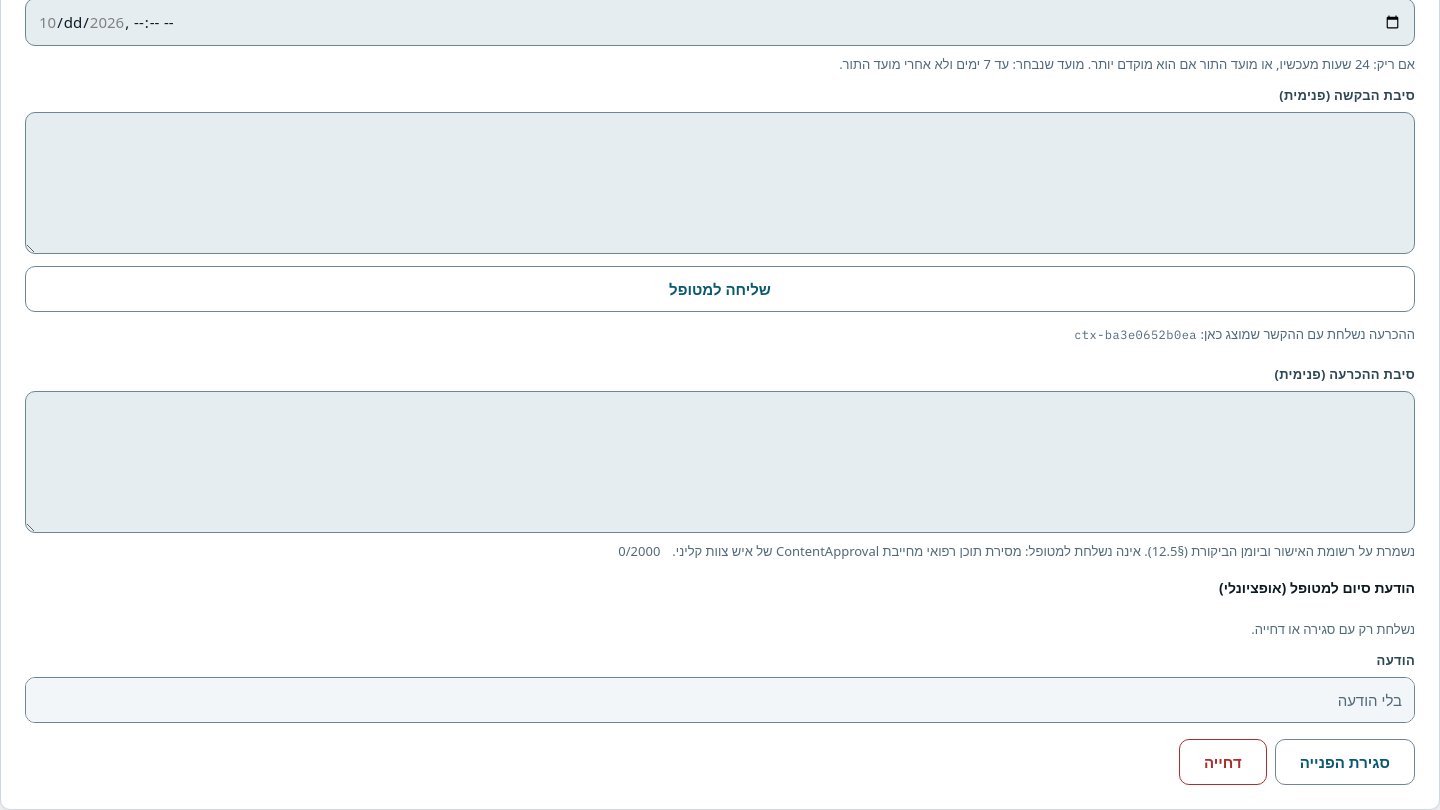
Test: ReviewCase › refuses to send without a reason
This screenshot has width=1440, height=810.
(page scrolled)
Click the button "דחייה".
click(1223, 762)  # box [1179, 739, 1267, 785]
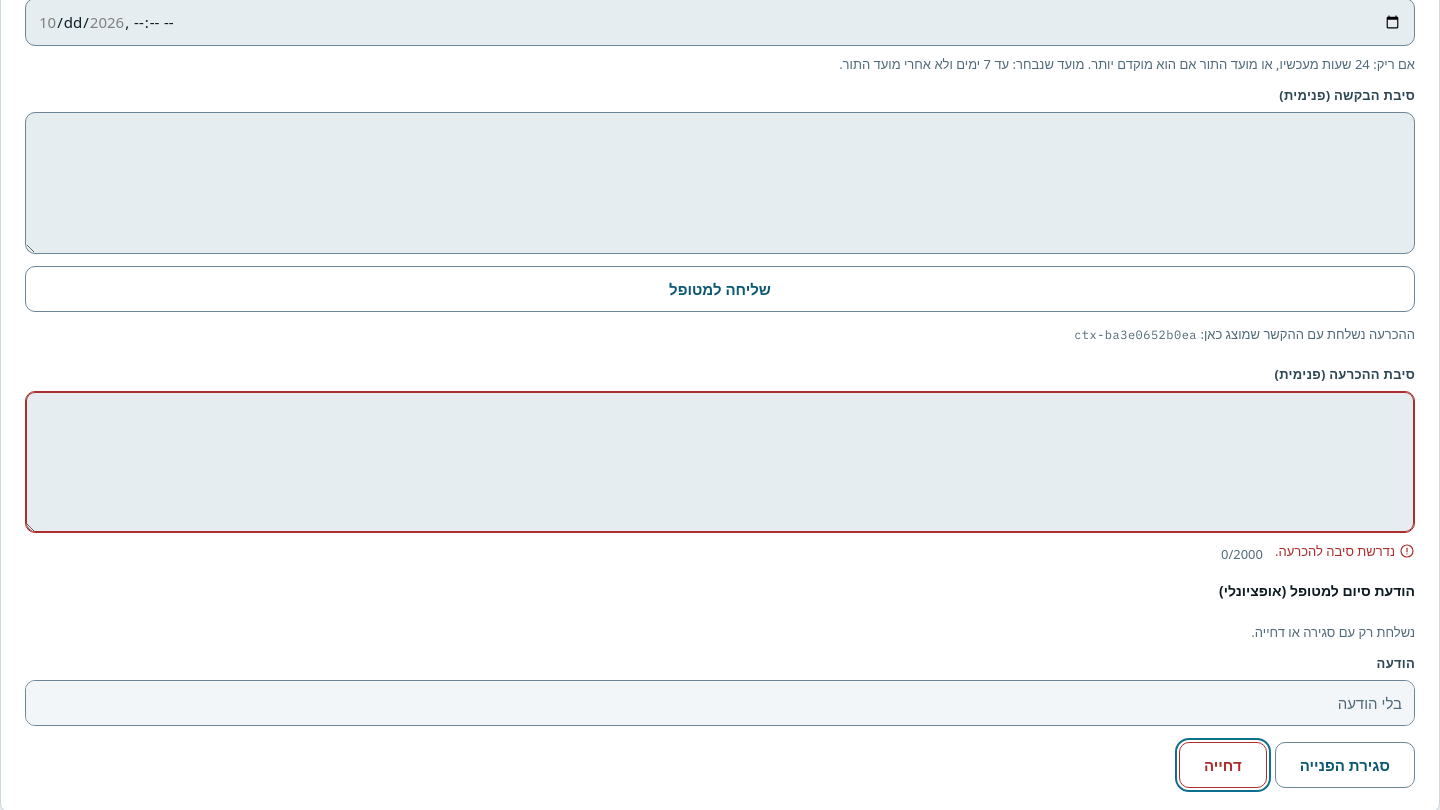
Check: the text "נדרשת סיבה להכרעה." is shown, box [1275, 541, 1415, 561]
